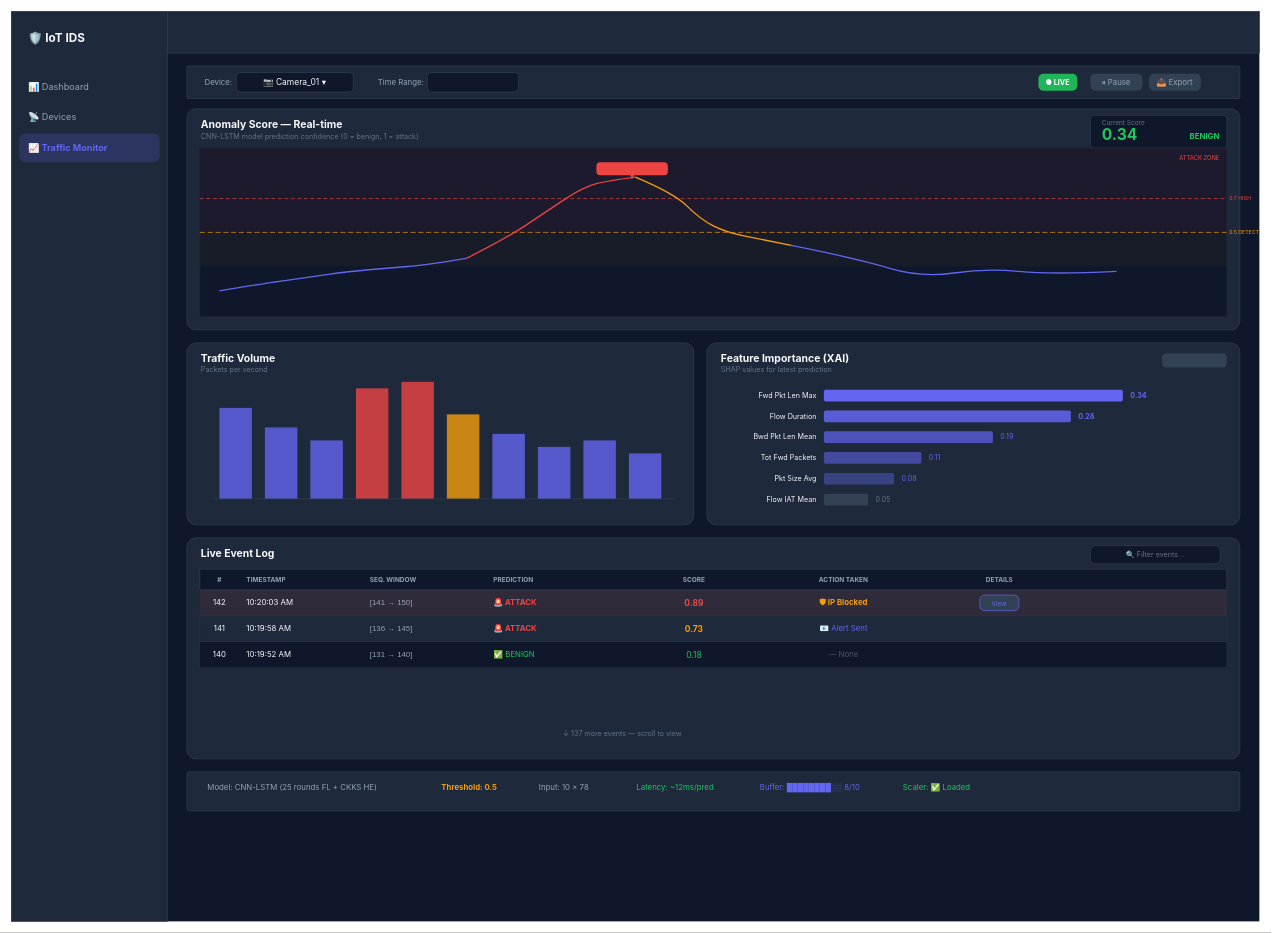
This 1285x933 diagram has some shape labels left out. The centre of each missing label's shape, as x and y in pixels:
"Last 1 Hour ▾" belongs at (472,82).
"Top 7 Features" belongs at (1194,360).
"Traffic Monitor" belongs at (713,32).
"⚠ DDoS Detected" belongs at (632,168).
